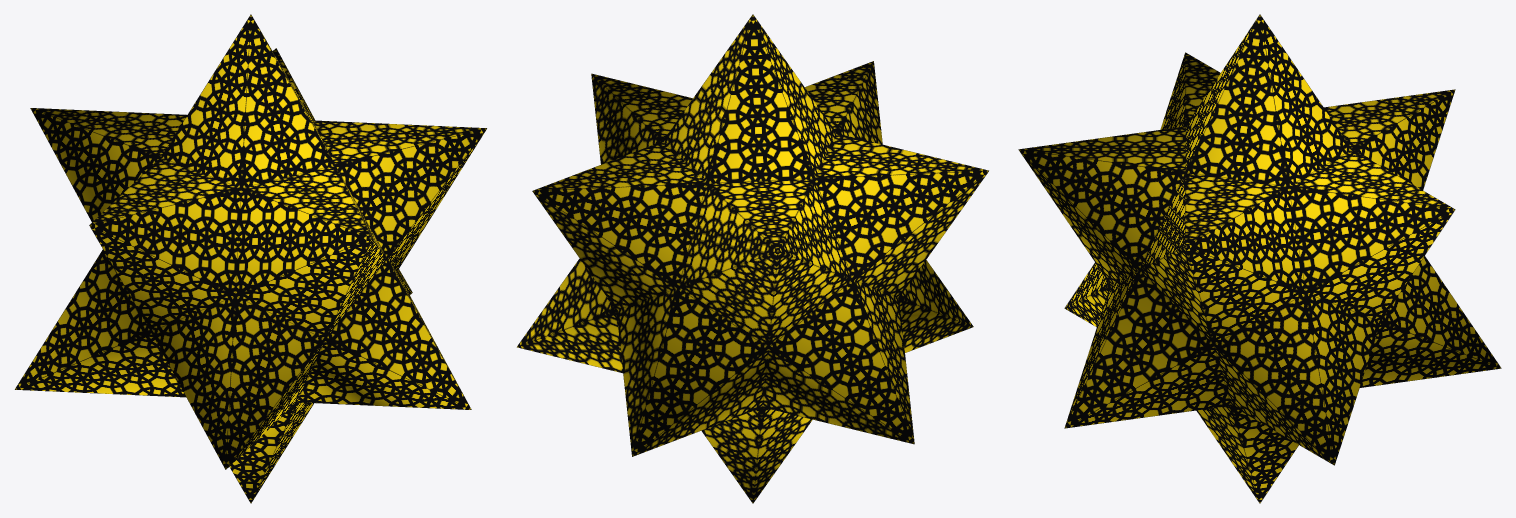
Rendered from small-stellated-dodecahedron.gltf.glb.
The picture shows the model from 3 angles, left to right: view 1: azimuth 30°, elevation 25°; view 2: azimuth 150°, elevation 25°; view 3: azimuth 270°, elevation 25°; orthographic projection.
Visible parts, largest first — view 1: Mesh; view 2: Mesh; view 3: Mesh.
Boxes of the visible parts, x1,y1,x2,y2 form: Mesh: [15, 14, 486, 503]; Mesh: [517, 14, 988, 503]; Mesh: [1018, 14, 1501, 503].
Bounding box in the file's own units: 3.24 × 3.8 × 3.4.
1 material, 1 textured.
